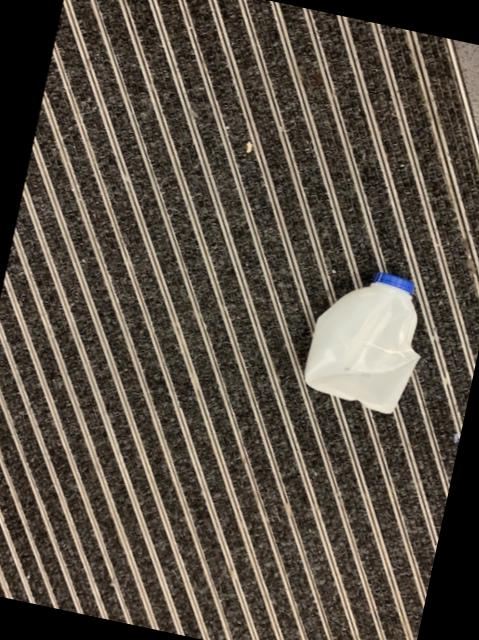plastic: (305, 273, 420, 413)
